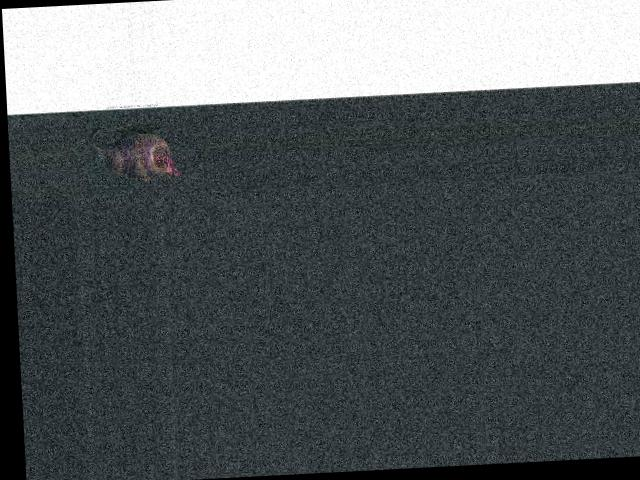beet: (90, 121, 182, 183)
